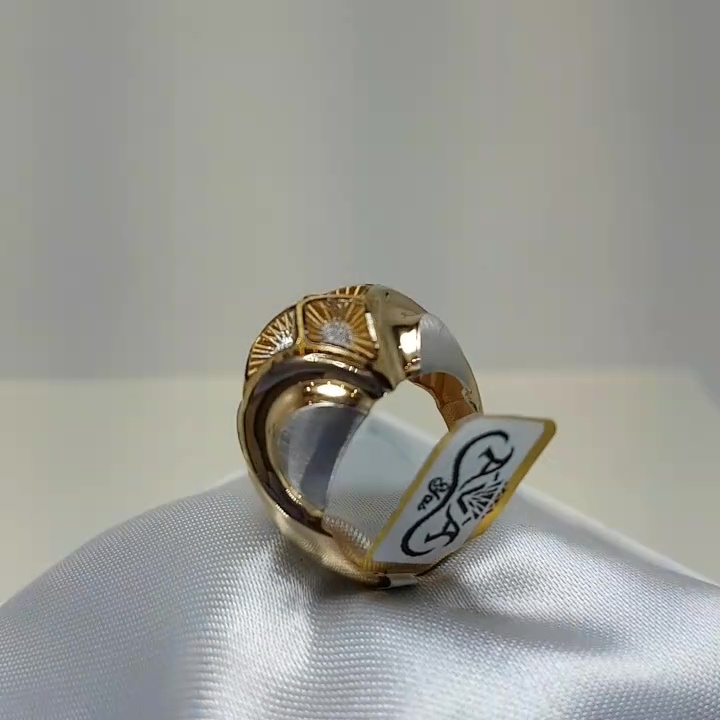Ring 2: (217, 265, 501, 600)
